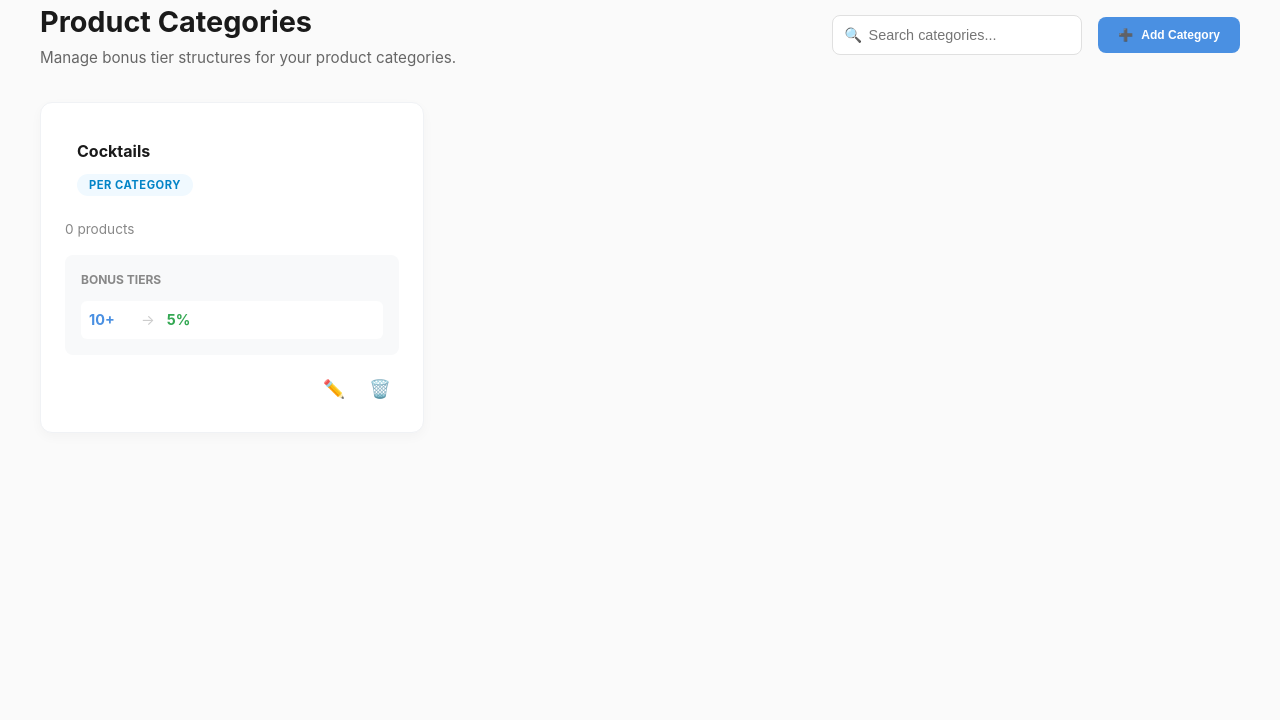
Categories Integration Tests › should allow adding a new tier rule correctly (functional state test)
Note: Open edit modal
Click the button titled "Edit Category" at point(334, 390), box 315,371 -> 353,408
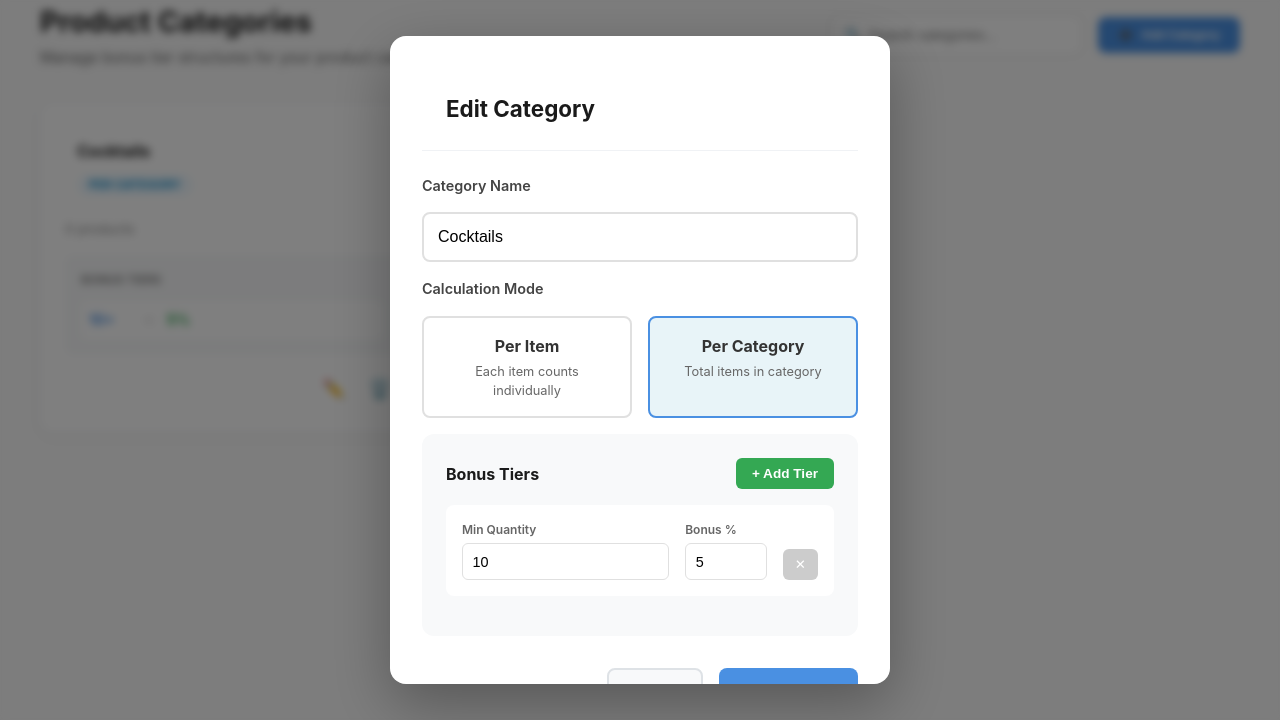
Note: Check if "Add Tier" exists and click it
Click the button "+ Add Tier" at point(785, 474), box 736,458 -> 834,489
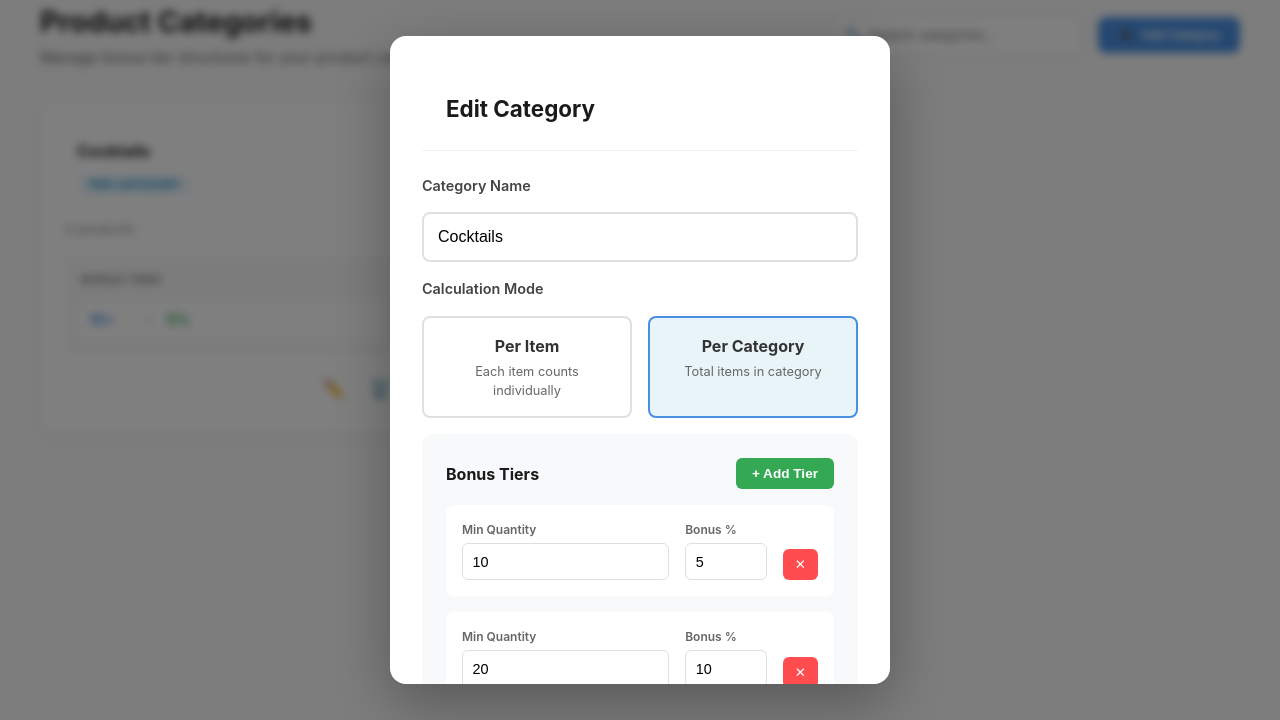
Check: the number of number fields labelled "Min Quantity" is 2, box 462,543 -> 669,580; 462,650 -> 669,684
